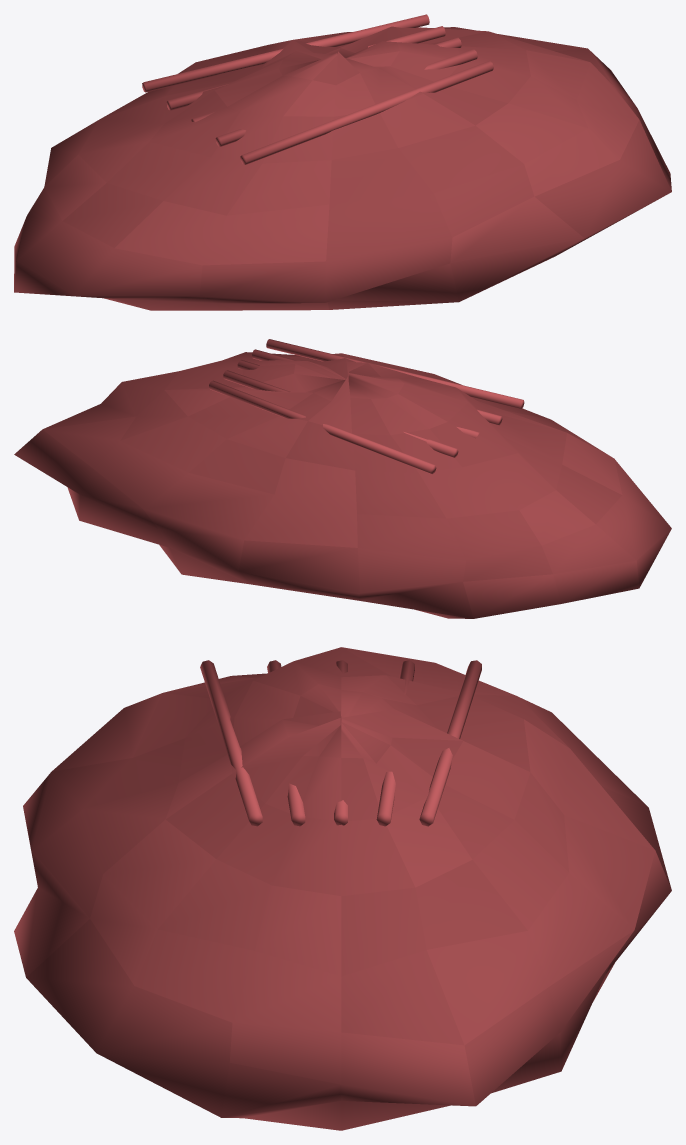
The model's file is Lamb.glb.
3 views of the same model, one above another, from view 1: azimuth 30°, elevation 25°; view 2: azimuth 150°, elevation 25°; view 3: azimuth 270°, elevation 25° (orthographic). The views are drawn at different scales.
Visible parts, largest first — view 1: Lamb; view 2: Lamb; view 3: Lamb.
Part boxes in pixels (bbox=[...]): Lamb: bbox=[14, 14, 671, 310]; Lamb: bbox=[14, 339, 671, 618]; Lamb: bbox=[14, 647, 671, 1130].
Size of what is drawn, in the model's own units: 0.1658 by 0.0504 by 0.108.
